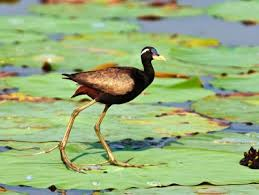Walking: (29, 40, 168, 177)
